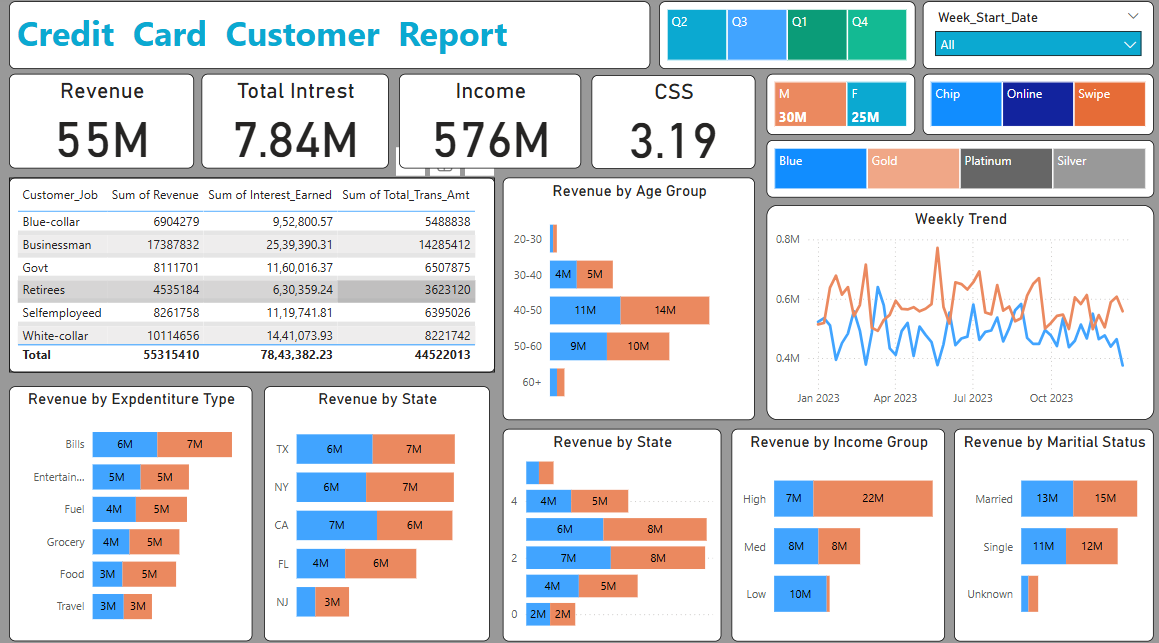

The page's visual inventory and layout, read from the dashboard file:
{"tool":"powerbi","page":{"name":"CC Customers","canvas":[1280,720],"ordinal":1},"visuals":[{"type":"textbox","box":[11,6.9,703.9,74.1],"z":0},{"type":"barChart","title":"Revenue by Income Group","fields":{"Category":["customer.IncomeGrp"],"Y":["Sum(credit_card.Revenue)"],"Series":["customer.Gender"]},"box":[804.1,476.2,234.6,233.3],"z":1000},{"type":"tableEx","fields":{"Values":["customer.Customer_Job","Sum(credit_card.Revenue)","Sum(credit_card.Interest_Earned)","Sum(credit_card.Total_Trans_Amt)"]},"box":[11,200.3,533.8,214.1],"z":2000},{"type":"card","title":"Revenue","fields":{"Values":["Sum(credit_card.Revenue)"]},"box":[11,86.4,203.1,104.3],"z":3000},{"type":"card","title":"Total Intrest","fields":{"Values":["Sum(credit_card.Interest_Earned)"]},"box":[222.3,86.4,205.8,104.3],"z":4000},{"type":"card","title":"Income","fields":{"Values":["Sum(customer.Income)"]},"box":[439.1,86.4,200.3,104.3],"z":5000},{"type":"card","title":"CSS","fields":{"Values":["Avg(customer.Cust_Satisfaction_Score)"]},"box":[650.4,87.8,179.8,102.9],"z":6000},{"type":"treemap","fields":{"Group":["credit_card.Qtr"],"Values":["CountNonNull(credit_card.Client_Num)"]},"box":[724.5,6.9,281.3,74.1],"z":7000},{"type":"treemap","fields":{"Values":["Sum(credit_card.Revenue)"],"Group":["customer.Gender"]},"box":[842.5,86.4,163.3,67.2],"z":8000},{"type":"treemap","fields":{"Group":["credit_card.Card_Category"],"Values":["credit_card.CurrentRev"]},"box":[842.5,159.2,425.4,63.1],"z":9000},{"type":"slicer","fields":{"Values":["credit_card.Week_Start_Date"]},"box":[1014.1,6.9,253.9,74.1],"z":10000},{"type":"treemap","fields":{"Group":["credit_card.Use Chip"],"Values":["credit_card.CurrentRev"]},"box":[1014.1,86.4,253.9,67.2],"z":11000},{"type":"lineChart","title":"Weekly Trend","fields":{"Y":["Sum(credit_card.Revenue)"],"Series":["customer.Gender"],"Category":["credit_card.Week_Start_Date.Variation.Date Hierarchy.Year","credit_card.Week_Start_Date.Variation.Date Hierarchy.Quarter","credit_card.Week_Start_Date.Variation.Date Hierarchy.Month","credit_card.Week_Start_Date.Variation.Date Hierarchy.Day"]},"box":[842.5,230.5,425.4,236],"z":12000},{"type":"barChart","title":"Revenue by Age Group","fields":{"Category":["customer.AgeGrp"],"Y":["Sum(credit_card.Revenue)"],"Series":["customer.Gender"]},"box":[553,200.3,277.2,266.2],"z":12001},{"type":"barChart","title":"Revenue by State","fields":{"Category":["customer.state_cd"],"Y":["Sum(credit_card.Revenue)"],"Series":["customer.Gender"]},"box":[290.9,429.5,248.4,279.9],"z":12002},{"type":"barChart","title":"Revenue by State","fields":{"Category":["customer.Dependent_Count"],"Y":["Sum(credit_card.Revenue)"],"Series":["customer.Gender"]},"box":[553,476.2,240.1,233.3],"z":12003},{"type":"barChart","title":"Revenue by Maritial Status","fields":{"Category":["customer.Marital_Status"],"Y":["Sum(credit_card.Revenue)"],"Series":["customer.Gender"]},"box":[1048.4,476.2,219.6,233.3],"z":12004},{"type":"barChart","title":"Revenue by Expdentiture Type","fields":{"Category":["credit_card.Exp Type"],"Y":["Sum(credit_card.Revenue)"],"Series":["customer.Gender"]},"box":[11,429.5,267.6,279.9],"z":12005}]}

Visuals, with their boxes in screenshot pixels (x1, y1, x2, y2), scaled from the page's 1280x720 canvas onto the 1159x643 screenshot:
textbox: (10,6,647,72)
"Revenue by Income Group" barChart: (728,425,941,634)
tableEx - customer.Customer_Job x Sum(credit_card.Revenue): (10,179,493,370)
"Revenue" card: (10,77,194,170)
"Total Intrest" card: (201,77,388,170)
"Income" card: (398,77,579,170)
"CSS" card: (589,78,752,170)
treemap - credit_card.Qtr x CountNonNull(credit_card.Client_Num): (656,6,911,72)
treemap - Sum(credit_card.Revenue) x customer.Gender: (763,77,911,137)
treemap - credit_card.Card_Category x credit_card.CurrentRev: (763,142,1148,199)
slicer - credit_card.Week_Start_Date: (918,6,1148,72)
treemap - credit_card.Use Chip x credit_card.CurrentRev: (918,77,1148,137)
"Weekly Trend" lineChart: (763,206,1148,417)
"Revenue by Age Group" barChart: (501,179,752,417)
"Revenue by State" barChart: (263,384,488,634)
"Revenue by State" barChart: (501,425,718,634)
"Revenue by Maritial Status" barChart: (949,425,1148,634)
"Revenue by Expdentiture Type" barChart: (10,384,252,634)
